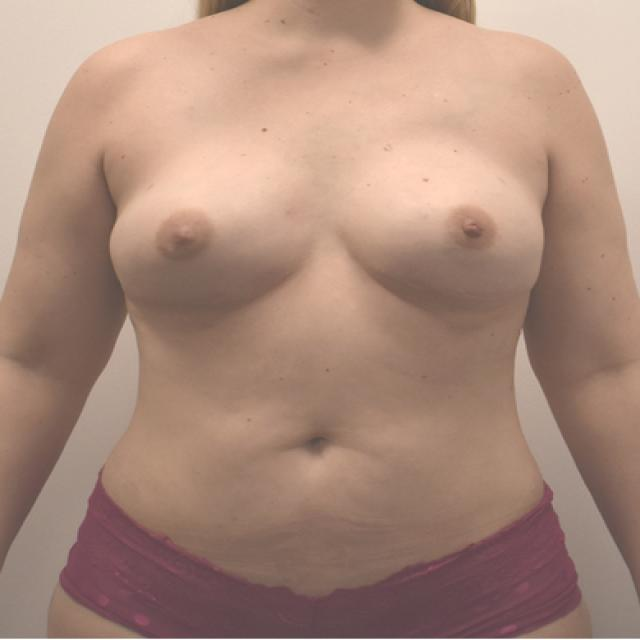Seno ileso: (100, 138, 324, 328), (334, 138, 554, 328)
